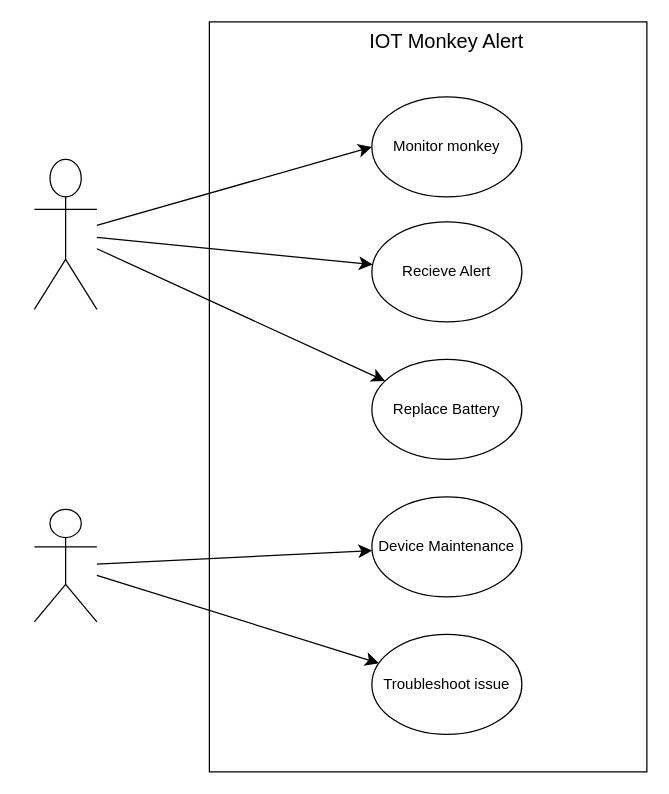
This 669x794 diagram has some shape labels left out. Here are the shapes that lost their labels. From the top down, the centre of each, then its label:
At point (65, 233): "User".
At point (65, 565): "Administrator".
